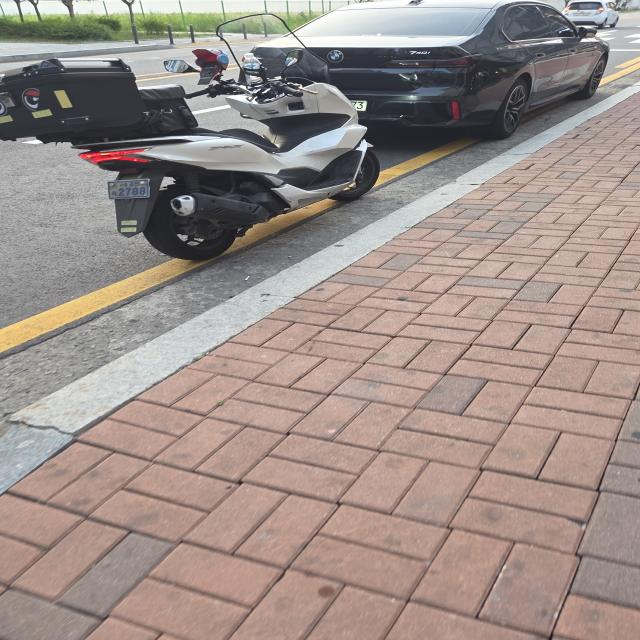car: (261, 0, 639, 148)
motorcycle: (3, 12, 414, 275)
